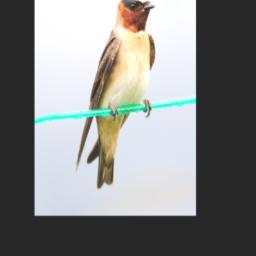Swallow: (58, 0, 173, 194)
